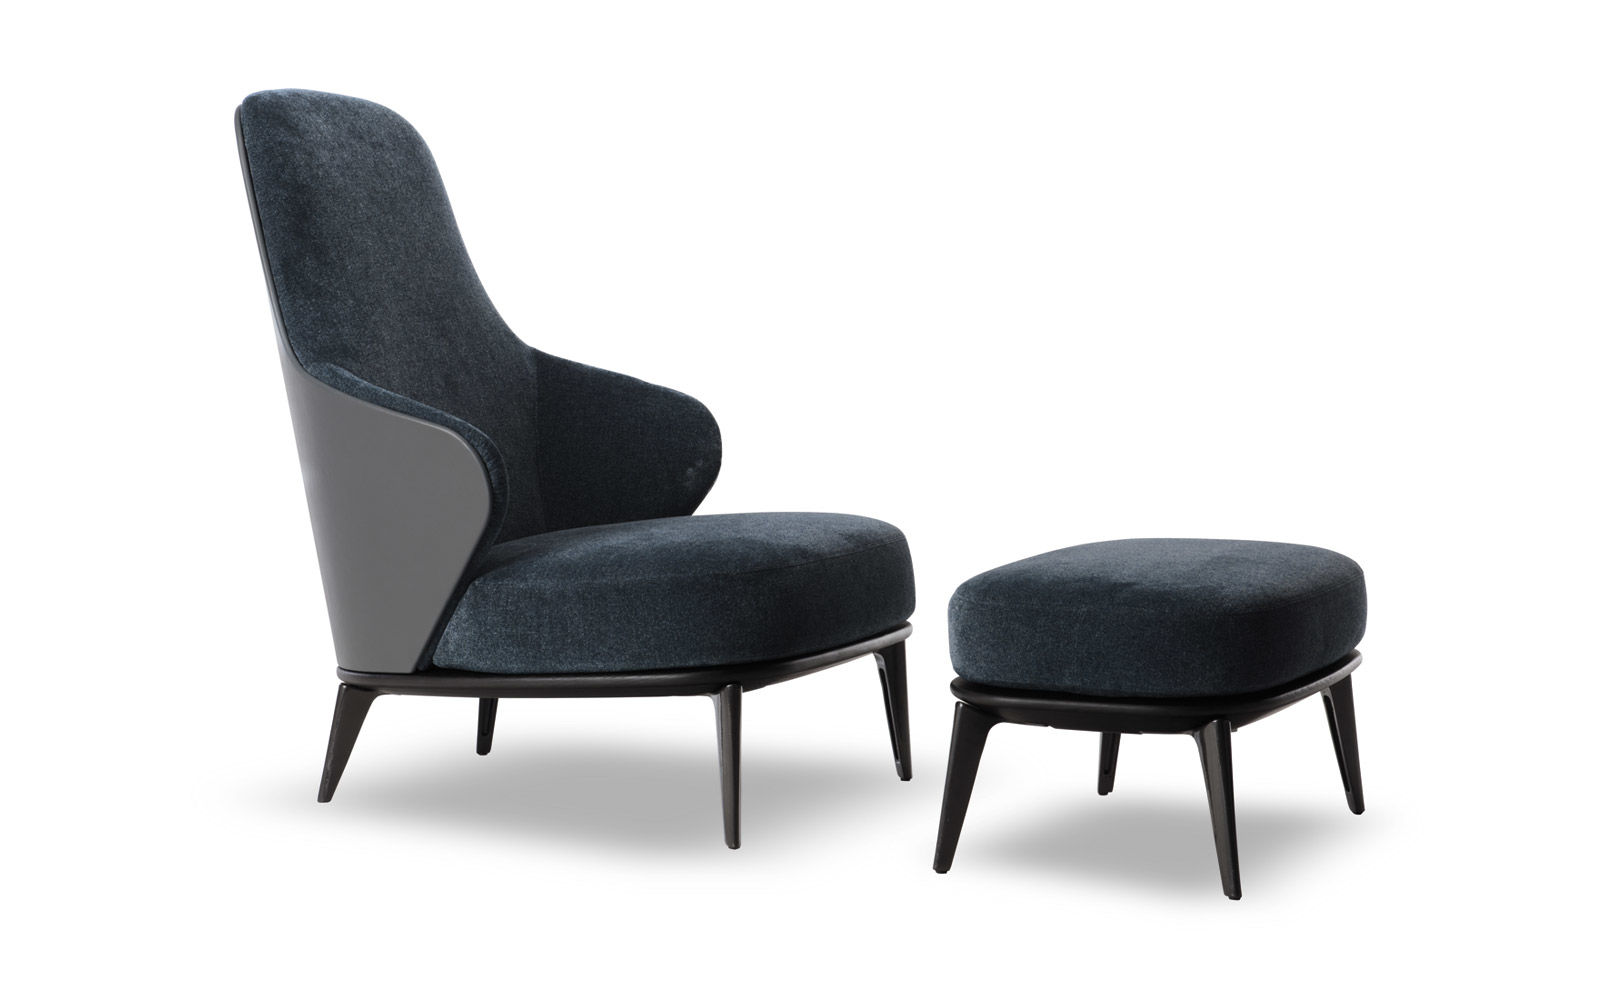chairs: (200, 91, 919, 861), (932, 535, 1401, 910)
